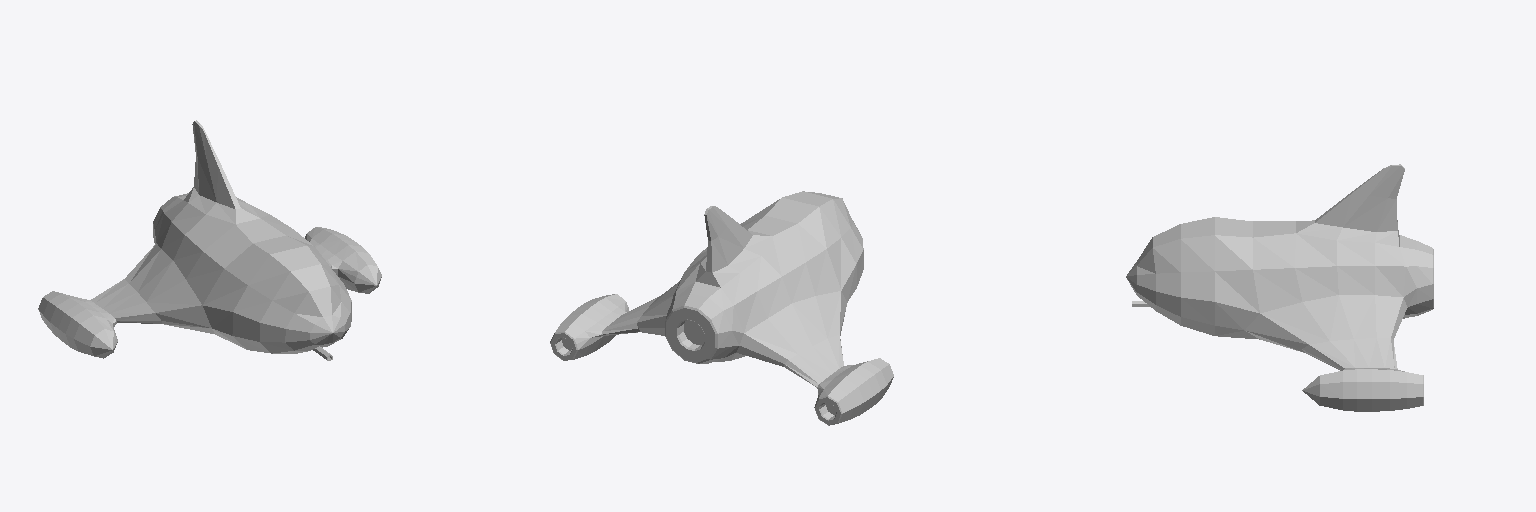
Rendered from ship1.obj.
3 views of the same model, side by side, from view 1: azimuth 30°, elevation 25°; view 2: azimuth 150°, elevation 25°; view 3: azimuth 270°, elevation 25° (orthographic).
Visible parts, largest first — view 1: Ship1_shipA; view 2: Ship1_shipA; view 3: Ship1_shipA.
Part boxes in pixels (x1,y1,x2,y2): Ship1_shipA: (38,120,381,360); Ship1_shipA: (550,191,893,425); Ship1_shipA: (1126,164,1433,411).
Bounding box in the file's own units: 0.0119 × 0.0068 × 0.0104.